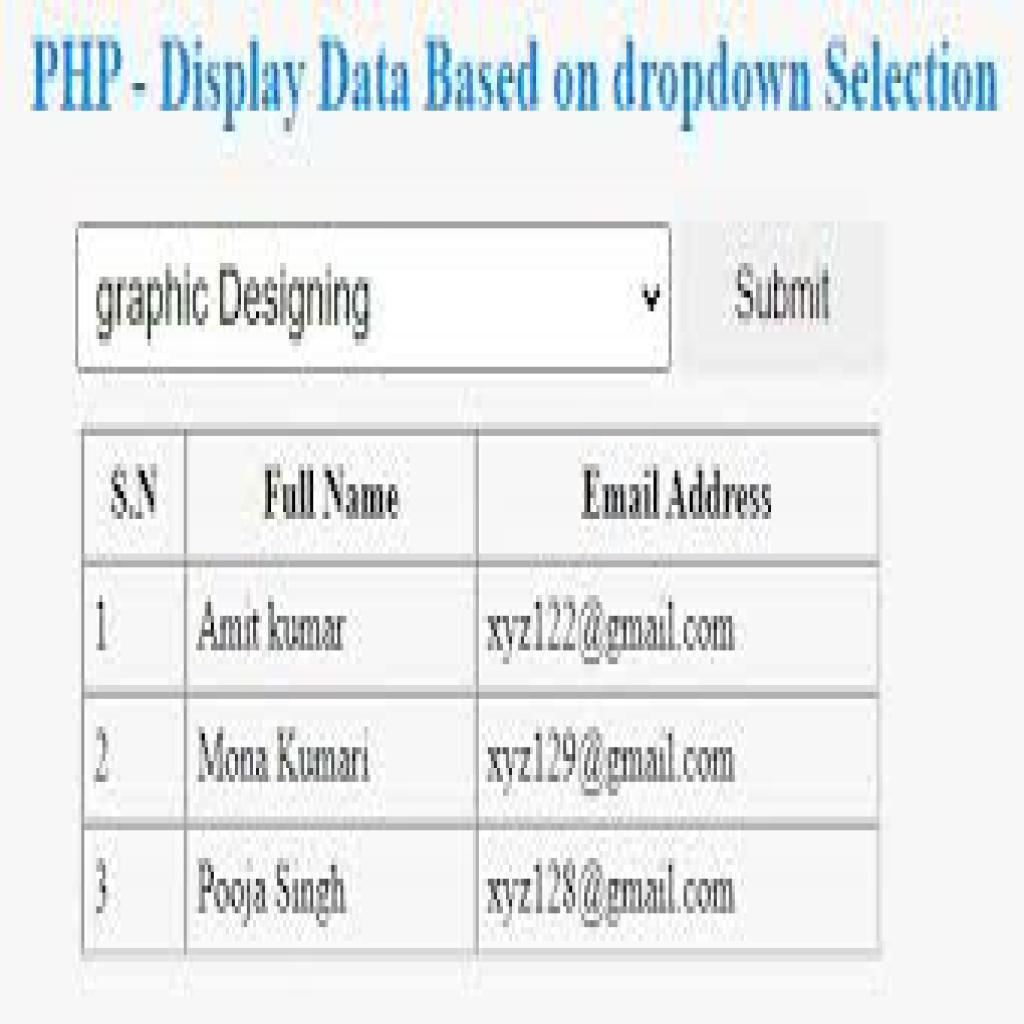button: (682, 222, 890, 360)
dropdown: (72, 220, 674, 376)
table: (81, 429, 873, 956)
